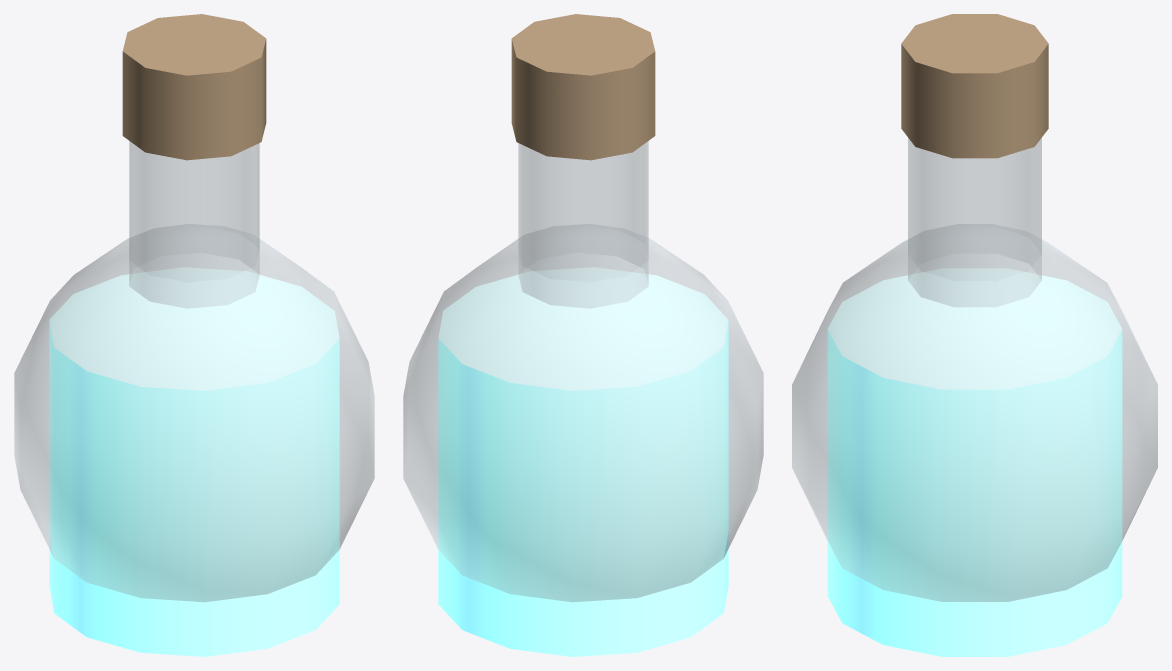
File: misty_water.glb
The picture shows the model from 3 angles, left to right: view 1: azimuth 30°, elevation 25°; view 2: azimuth 150°, elevation 25°; view 3: azimuth 270°, elevation 25°; orthographic projection.
Parts seen in each view (by area): view 1: Flask; view 2: Flask; view 3: Flask.
Part boxes in pixels (left/top/right/bottom): Flask: left=14, top=14, right=374, bottom=656; Flask: left=403, top=14, right=763, bottom=656; Flask: left=792, top=14, right=1157, bottom=656.
Bounding box in the file's own units: 0.2661 × 0.469 × 0.273.
